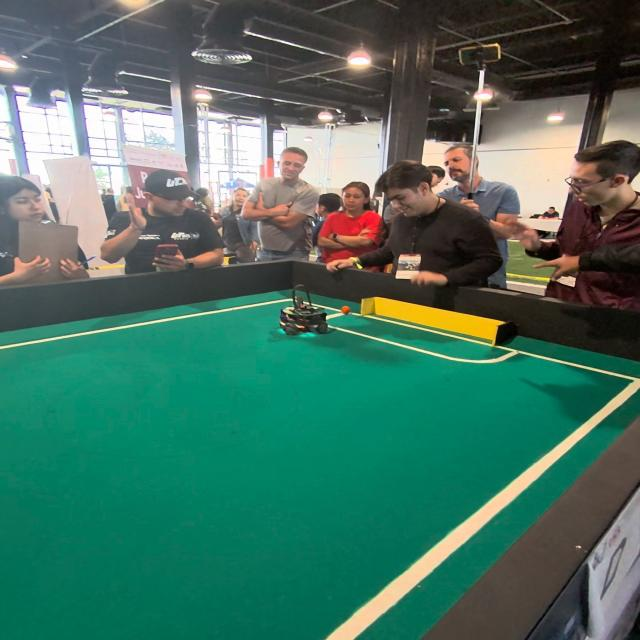Robot: (275, 284, 329, 340)
pelota: (340, 305, 360, 319)
